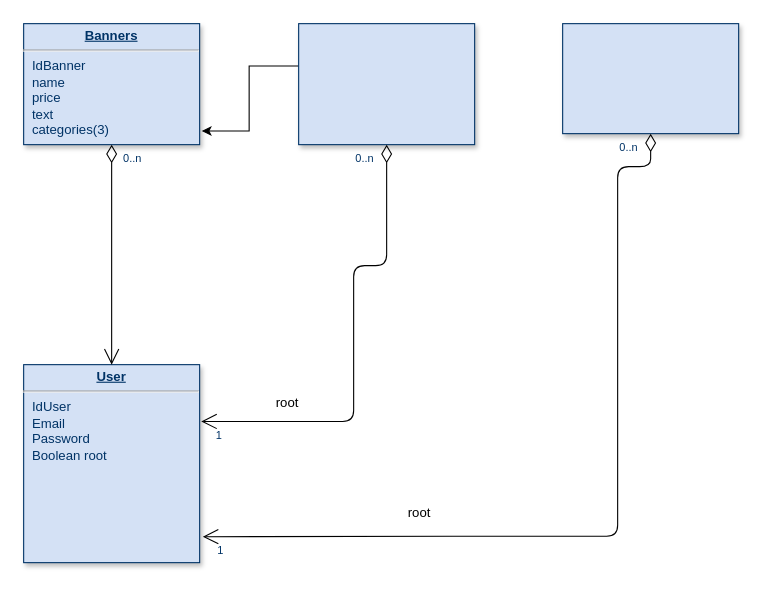
This 765x590 diagram has some shape labels left out. The shapes that lost their labels are listed below. From the top down, each one's centre as x and y in pixels, then its label:
At (387,85): "Categories RequestID Name".
At (651,79): "Logs IdUser IP IDBanner Data".
